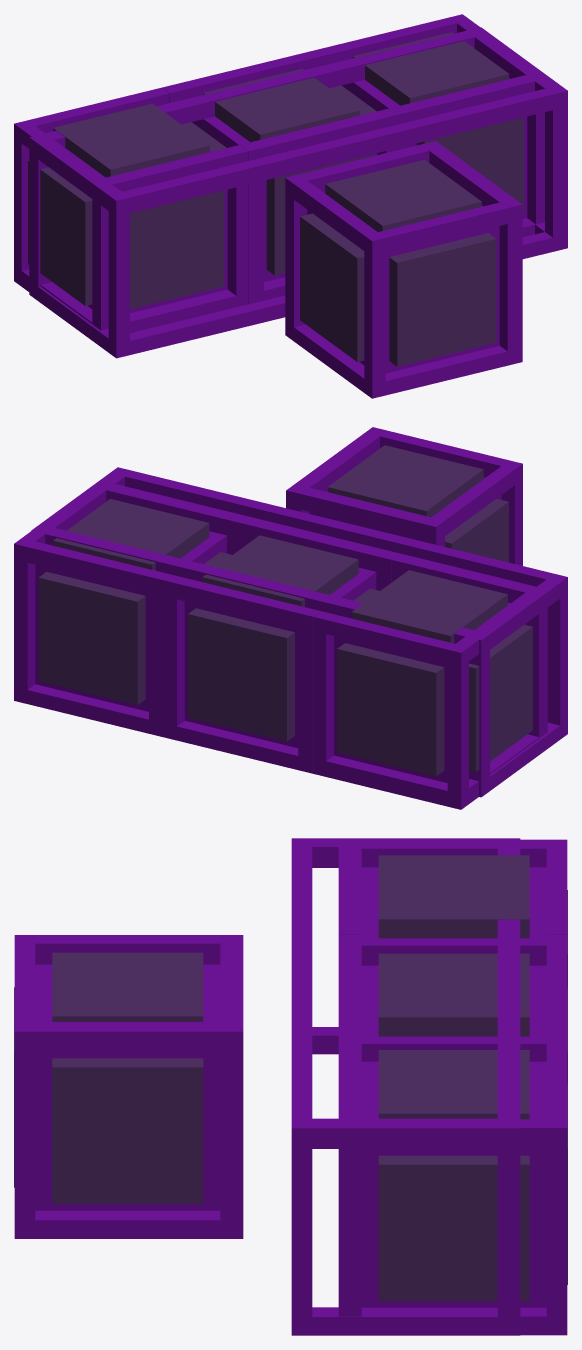
Rendered from Fall_Filled.fbx.
3 views of the same model, one above another, from view 1: azimuth 30°, elevation 25°; view 2: azimuth 150°, elevation 25°; view 3: azimuth 270°, elevation 25° (orthographic). The views are drawn at different scales.
Visible parts, largest first — view 1: 1, 1.002, 1.003, 1.004, 3, 2, 4; view 2: 1.002, 1.003, 1.004, 1, 3, 2, 4; view 3: 1, 1.003, 1.002, 2, 1.004, 3, 4.
Part boxes in pixels (x1,y1,x2,y2): 1: [285, 141, 522, 398]; 1.002: [14, 87, 248, 332]; 1.003: [313, 14, 544, 237]; 1.004: [162, 51, 399, 303]; 3: [29, 100, 266, 358]; 2: [331, 27, 567, 258]; 4: [180, 64, 417, 321]; 1.002: [313, 553, 547, 809]; 1.003: [14, 482, 249, 736]; 1.004: [163, 517, 399, 773]; 1: [286, 427, 522, 565]; 3: [331, 540, 567, 797]; 2: [31, 467, 267, 576]; 4: [181, 504, 417, 613]; 1: [14, 935, 243, 1238]; 1.003: [338, 1031, 567, 1335]; 1.002: [338, 839, 567, 988]; 2: [291, 1031, 520, 1335]; 1.004: [338, 935, 567, 1084]; 3: [291, 838, 520, 1054]; 4: [291, 935, 520, 1031].
Size of the model in its own units: 357 by 120 by 288.
